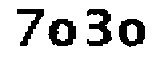3: (84, 5, 115, 51)
7: (10, 3, 47, 51)
o: (46, 16, 79, 50), (117, 17, 150, 51)
